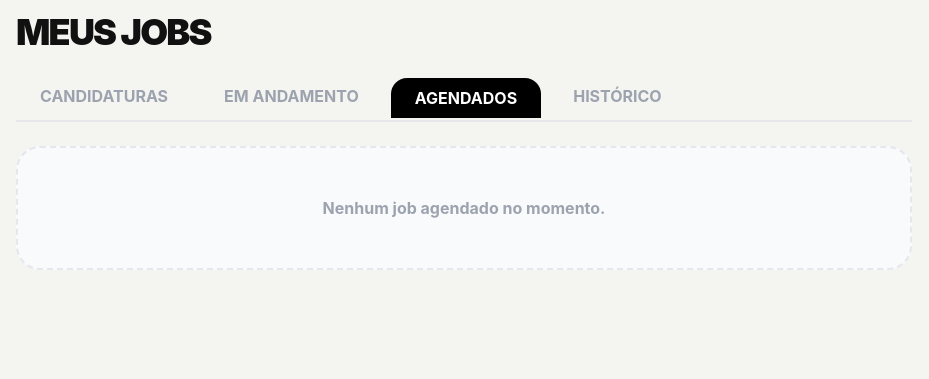
Test case: MyJobs - Estado vazio por tab › exibe estado vazio na tab Em Andamento quando nao ha jobs
Click the button "Em Andamento".
click(291, 96)  # box [200,76,383,116]
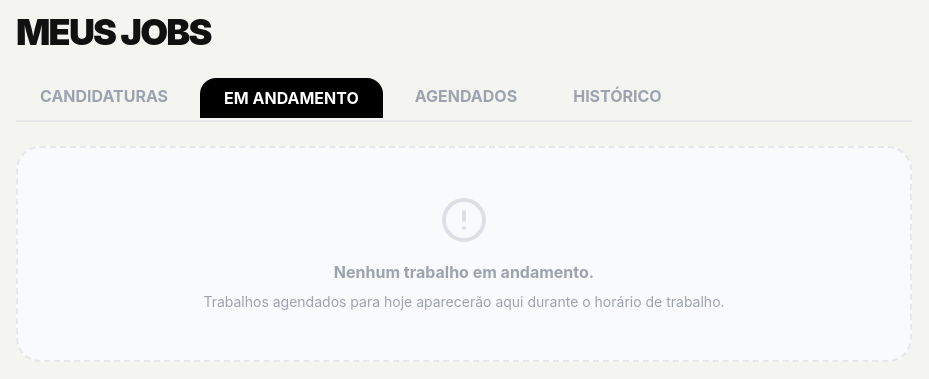
Check: the text "Nenhum trabalho em andamento." is shown, box [334,262,594,282]
